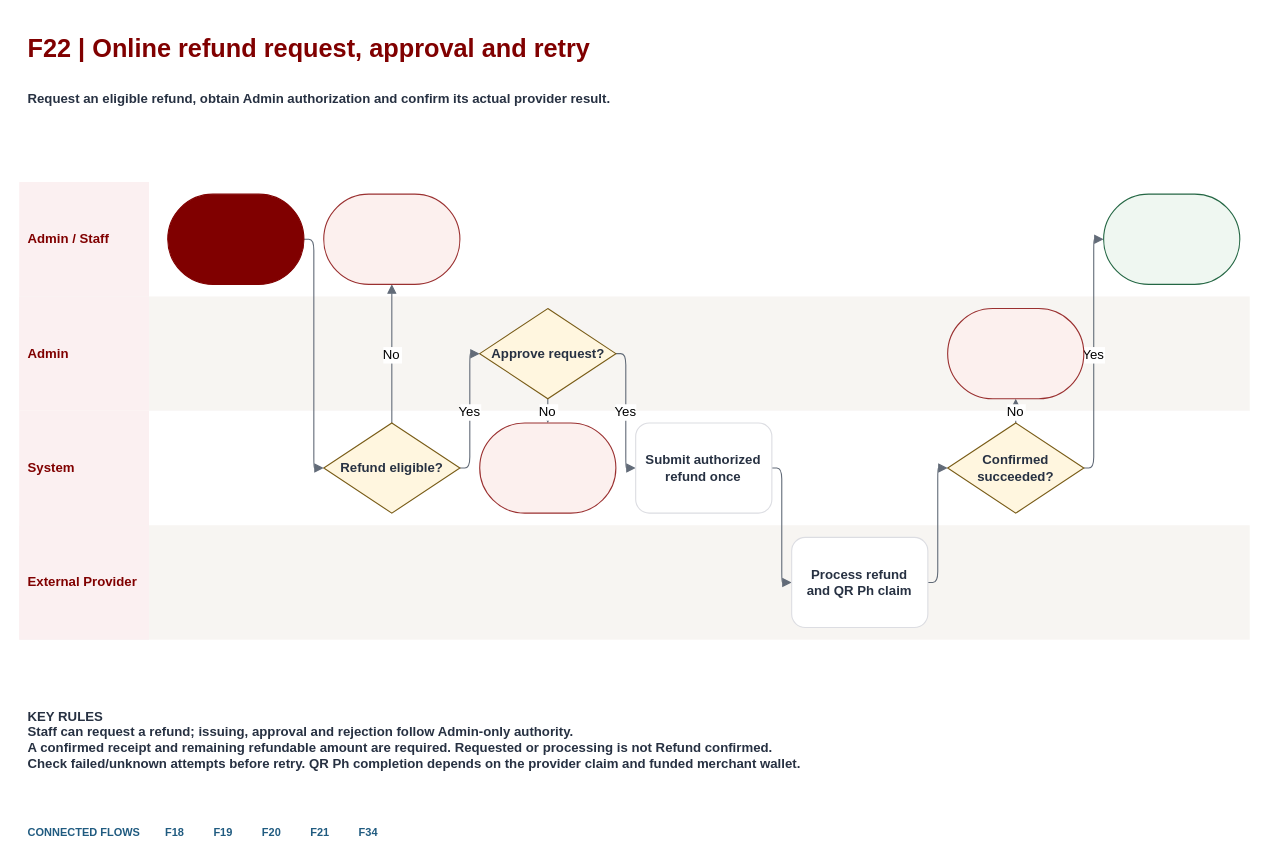
The diagram is 1268 pixels wide and 860 high, and some of its shapes have lost their labels. The shapes that lost their labels are listed below. From the top down, each one's centre as x and y in pixels, then its label:
the point at 235,238: Identify receipt, amount and reason
the point at 391,238: Resolve eligibility before requesting
the point at 1171,238: Read confirmed refund and balance
the point at 1015,353: Check status; review retry or rejection
the point at 547,467: Record decline; no refund issued
